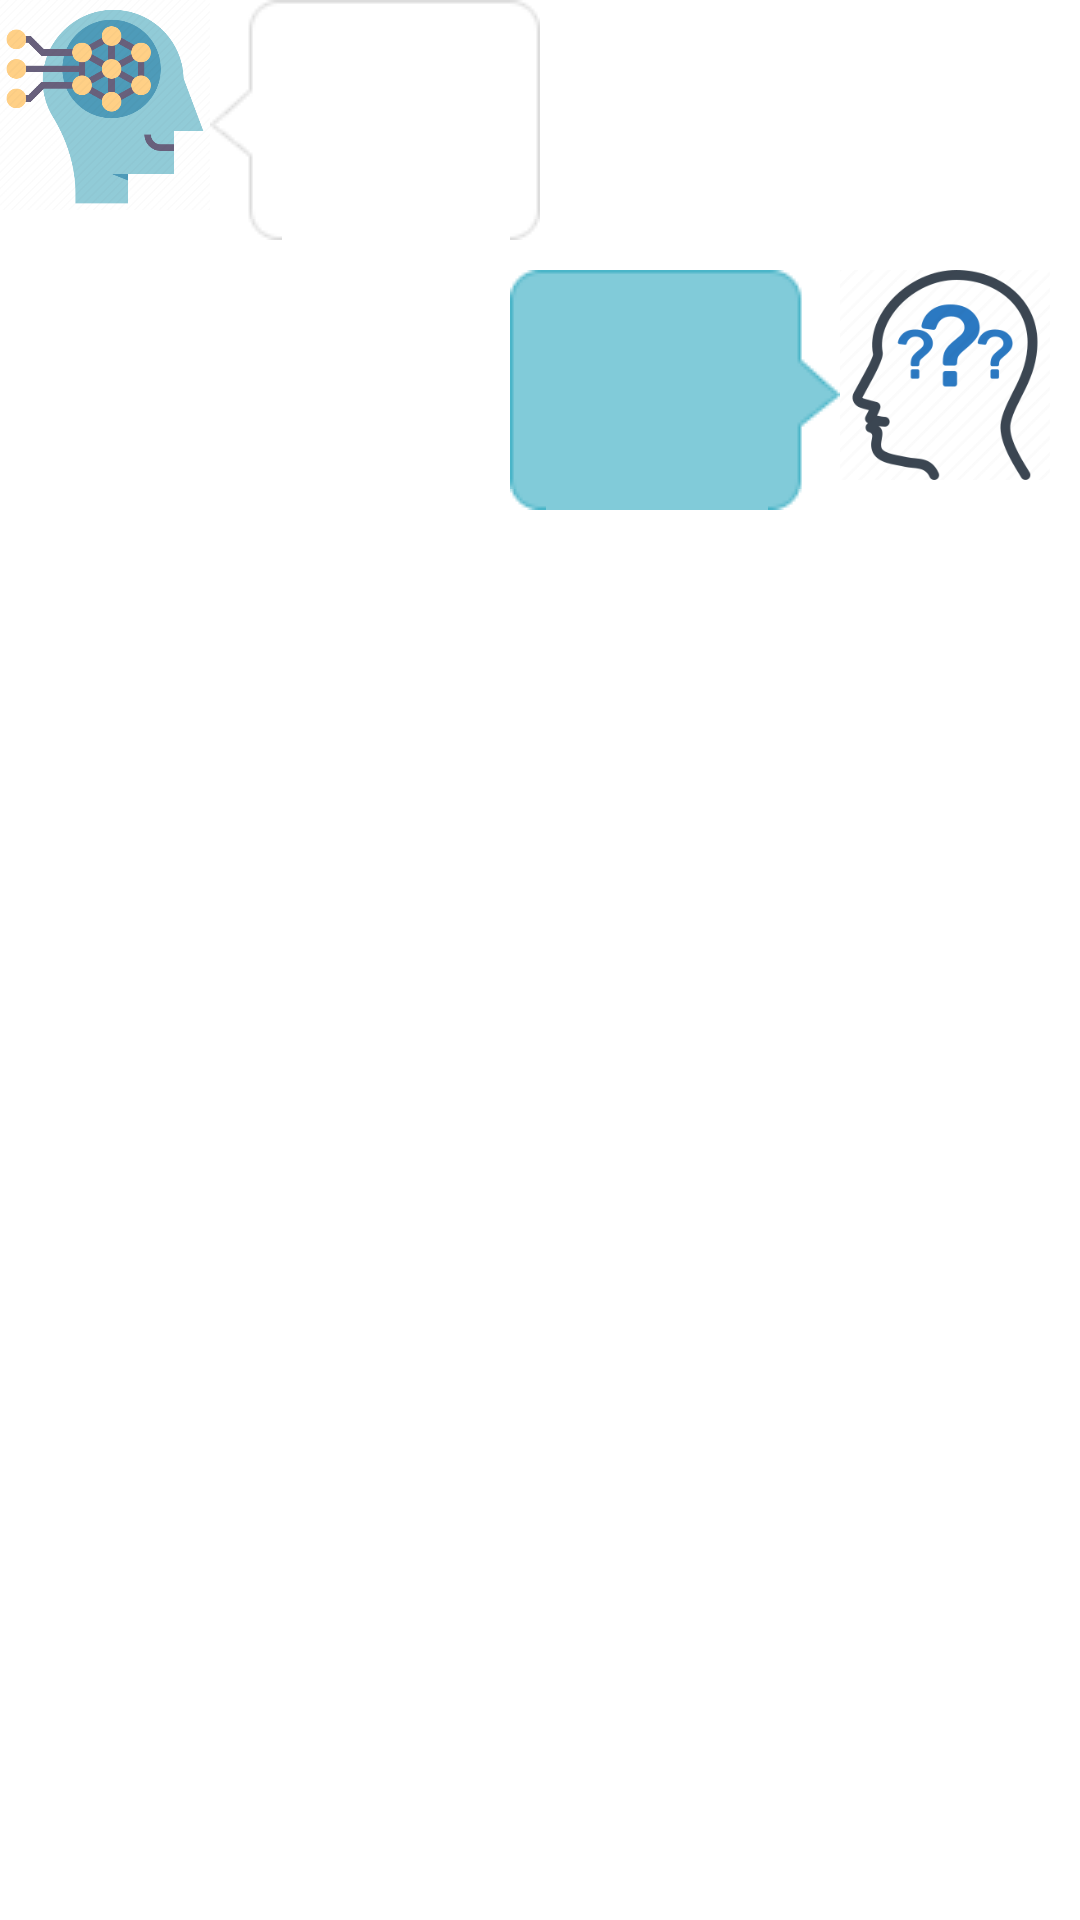

Icon bounding boxes for this 1080 x 1920 phone screenshot, format (x1, y1, x2, y2):
answer man: (6, 10, 203, 204)
ask man: (852, 270, 1038, 480)
